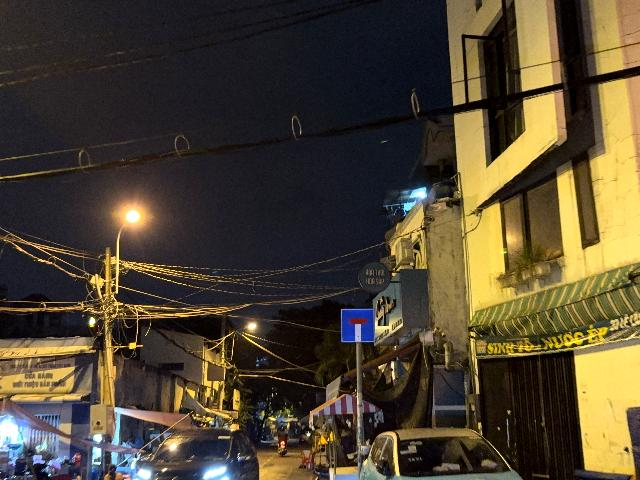duong-cut: (340, 309, 375, 342)
